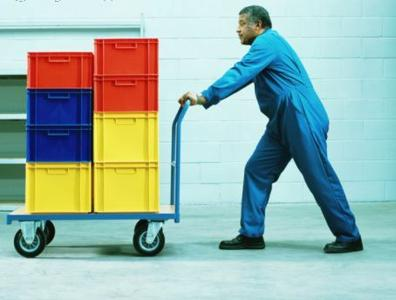person: (177, 3, 368, 259)
